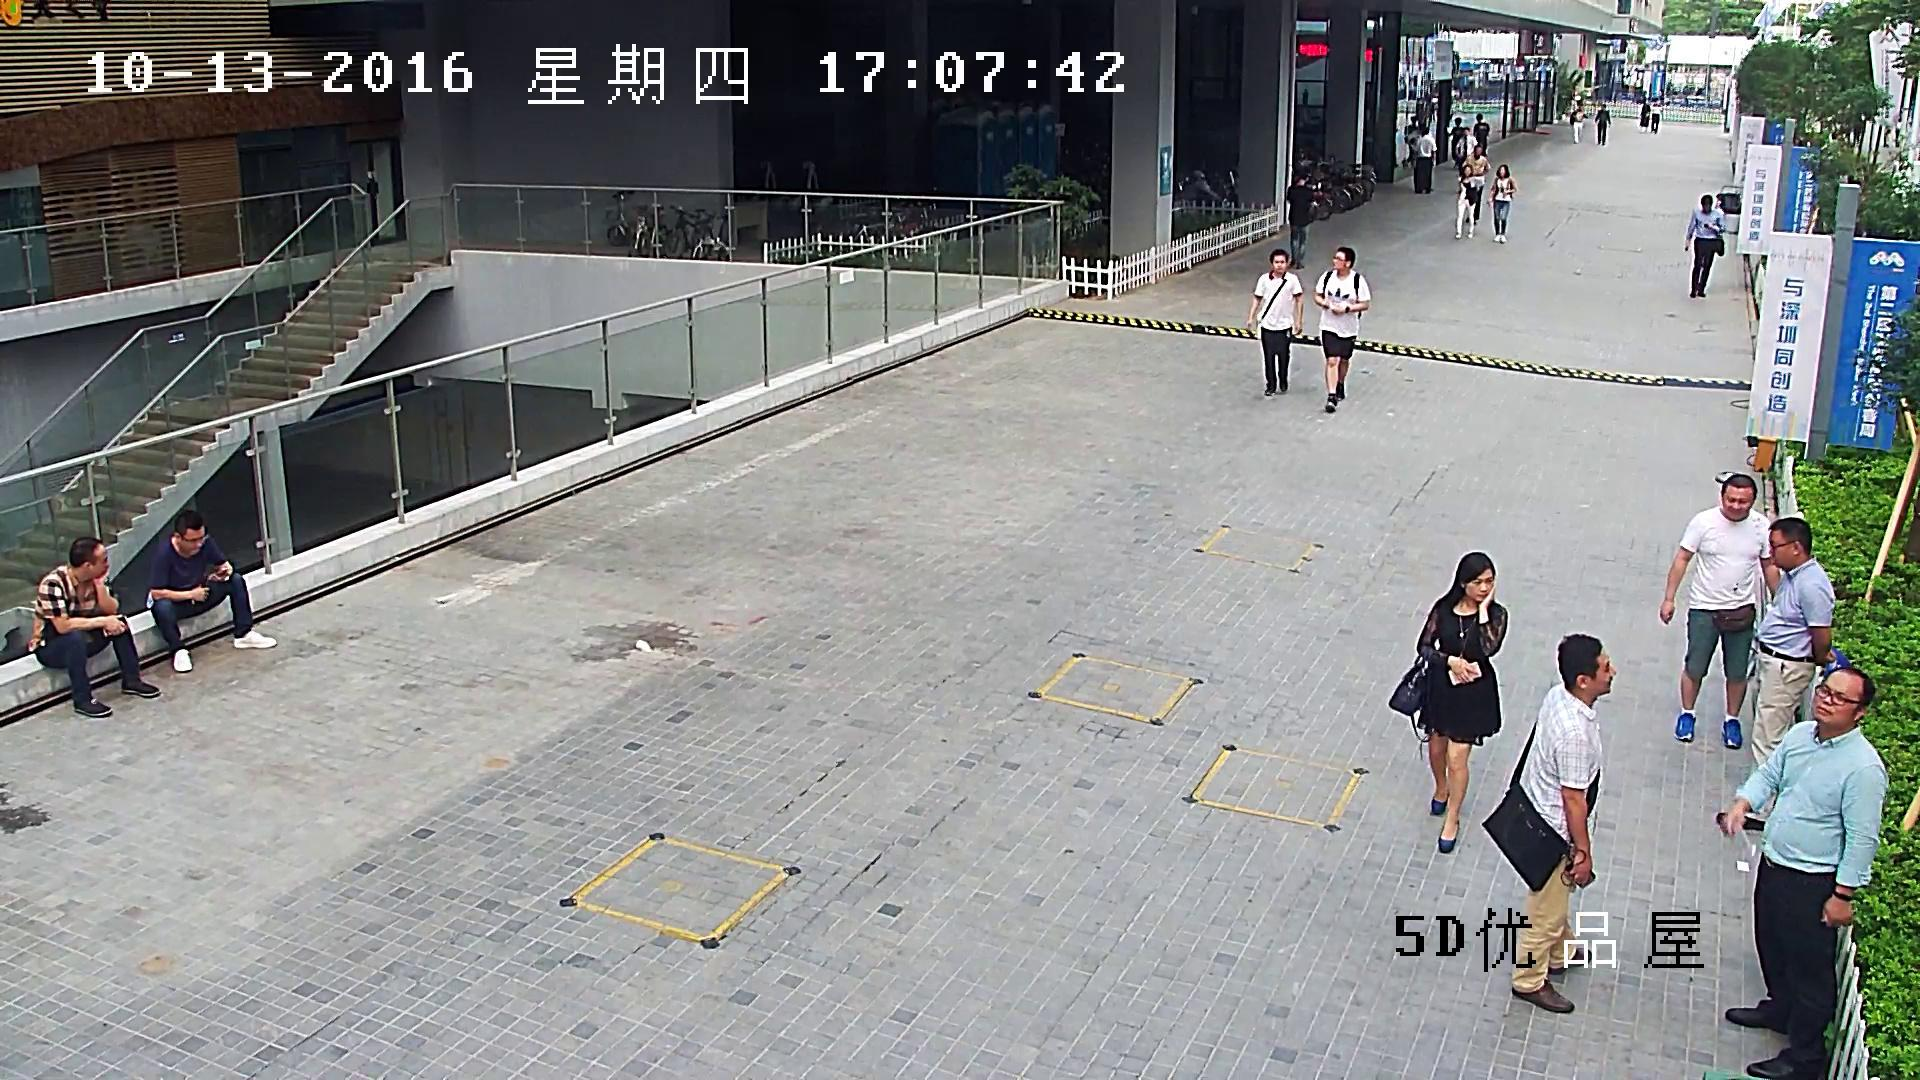person: (1714, 666, 1889, 1080), (1479, 632, 1616, 1014), (1387, 551, 1508, 853), (1658, 472, 1782, 749), (27, 536, 161, 718), (1748, 516, 1838, 769), (145, 509, 277, 674), (1314, 246, 1372, 413), (1246, 248, 1304, 397), (1684, 193, 1725, 299), (1284, 170, 1314, 270), (1461, 145, 1488, 225), (1490, 163, 1516, 243), (1454, 164, 1478, 239), (1412, 125, 1437, 195), (1447, 116, 1467, 166), (1401, 115, 1418, 166), (1472, 112, 1489, 156), (1594, 103, 1611, 145), (1569, 104, 1583, 144), (1650, 97, 1660, 134), (1639, 99, 1650, 133)
